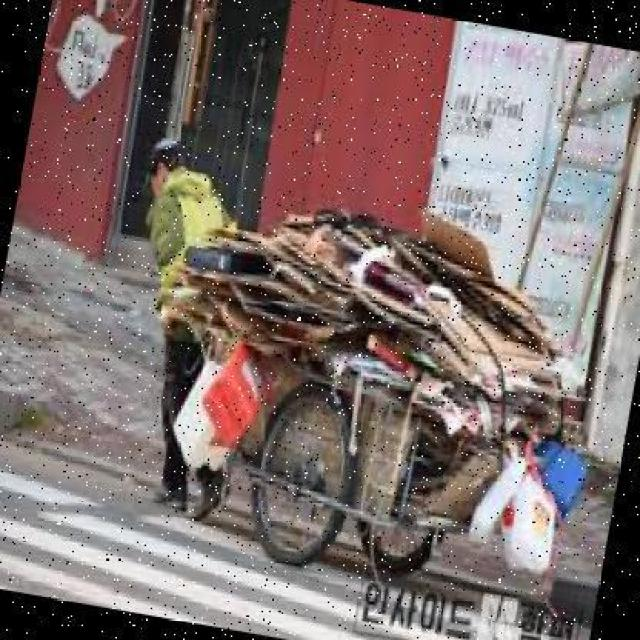-: (88, 134, 283, 524)
